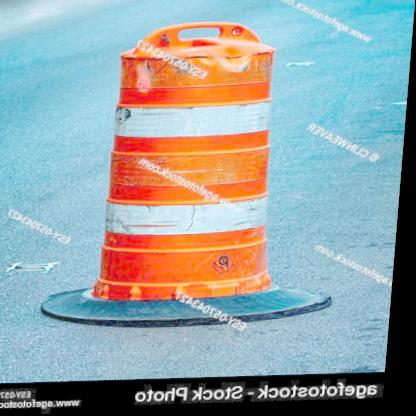obstacle: (86, 28, 297, 309)
